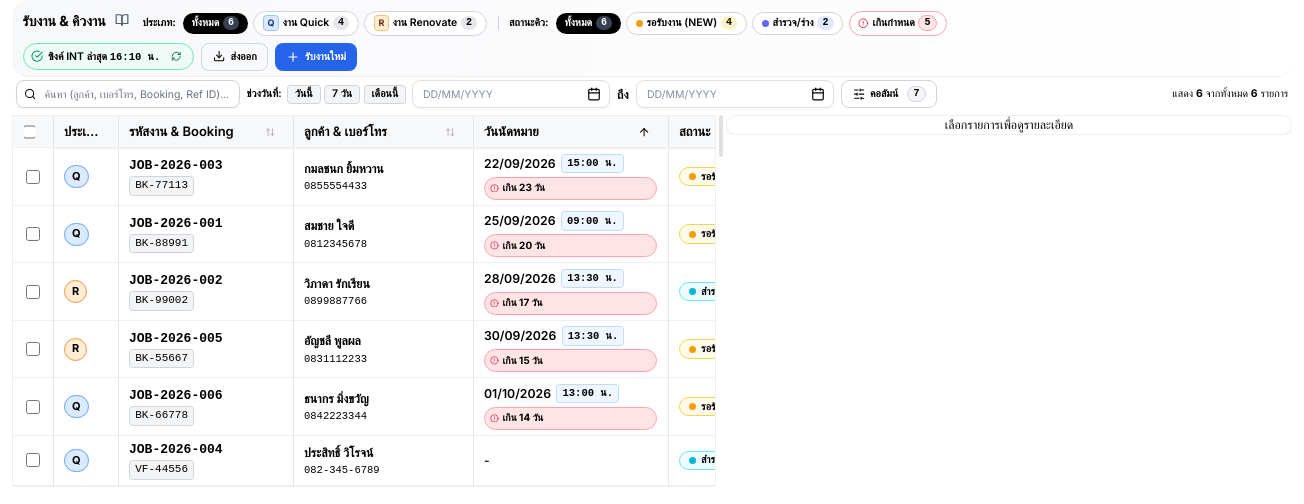
Scenario: OrdersPage - Master List Features (R1, R2, R3, R5) › filters list accurately by Customer Name (R1)
The image size is (1304, 504).
Type "วิภาดา" into the field with placeholder "ค้นหา (ลูกค้า, เบอร์โทร, Booking, Ref ID)...". click: (128,94)
box: left=16, top=80, right=240, bottom=108
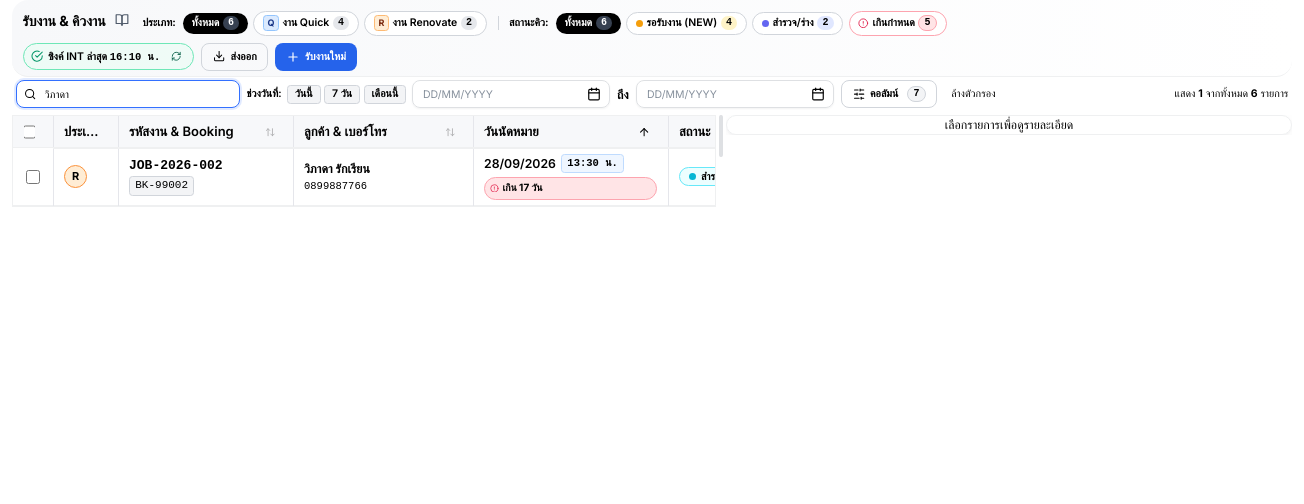
expect the text "วิภาดา รักเรียน" is shown: met, box left=304, top=161, right=370, bottom=176
expect the text "สมชาย ใจดี" is gone: met
expect the text "กมลชนก ยิ้มหวาน" is gone: met
